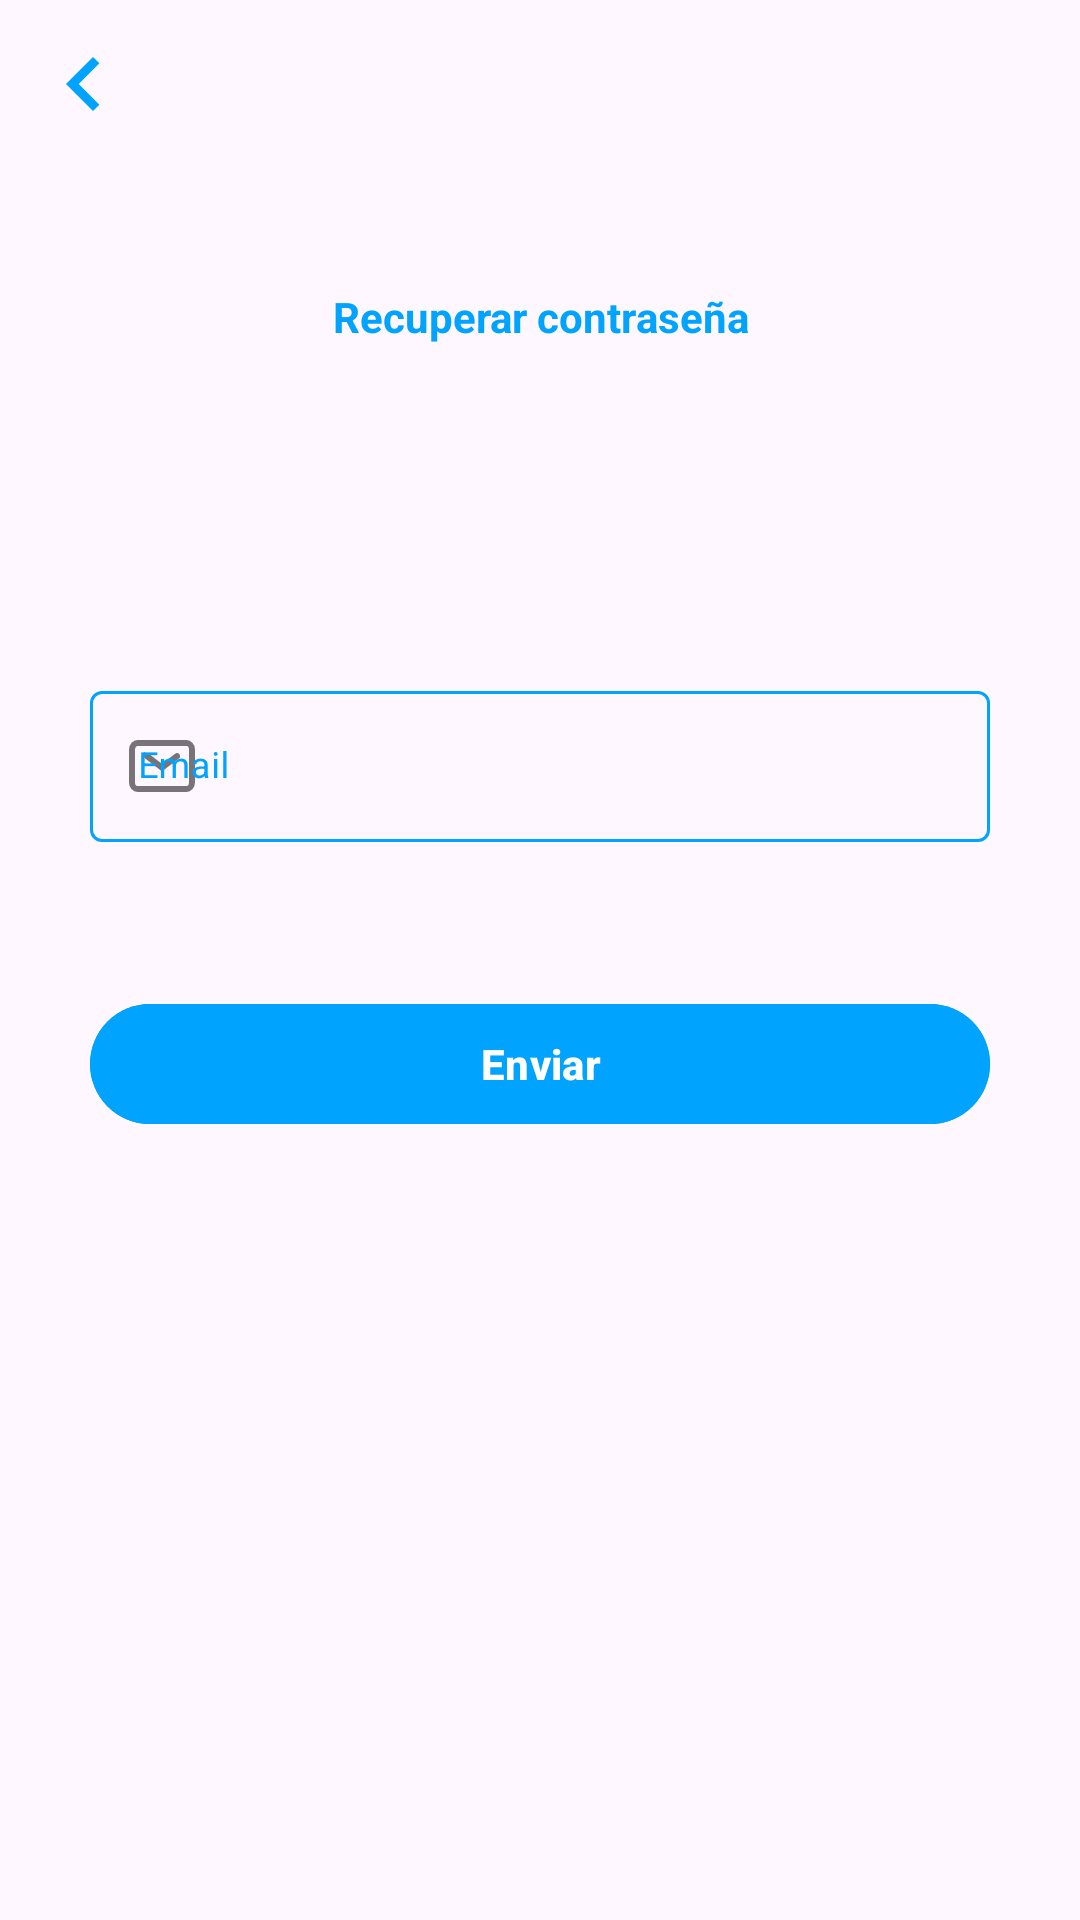

Icon click points for this 1080px×1920px phone screenshot, format [x,y]:
chevron left: [83,84]
